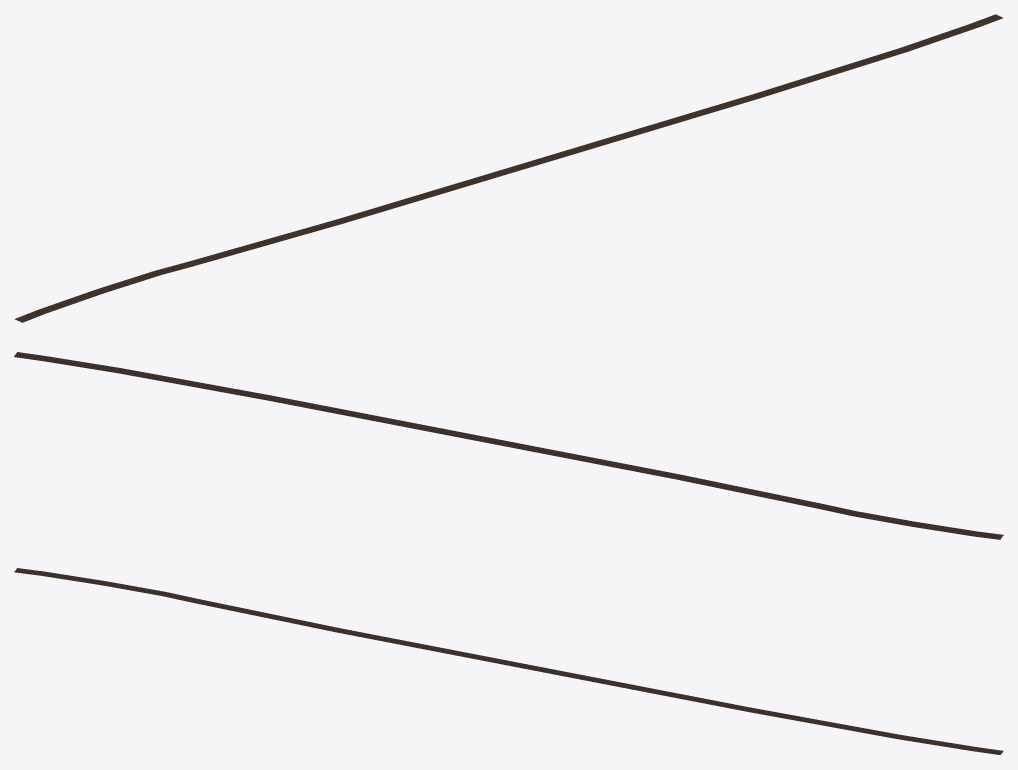
Rendered from kobe_0031.glb.
The picture shows the model from 3 angles, top to bottom: view 1: azimuth 30°, elevation 25°; view 2: azimuth 150°, elevation 25°; view 3: azimuth 330°, elevation 25°; orthographic projection. The views are drawn at different scales.
Parts seen in each view (by area): view 1: ballast_top, oxidised_rail_profiles; view 2: ballast_top, oxidised_rail_profiles, ballast_left; view 3: ballast_top, oxidised_rail_profiles.
Part boxes in pixels (x1=…): ballast_top: x1=14, y1=14, x2=1002, y2=322; oxidised_rail_profiles: x1=15, y1=14, x2=1002, y2=321; ballast_top: x1=14, y1=352, x2=1003, y2=538; oxidised_rail_profiles: x1=15, y1=352, x2=1002, y2=538; ballast_left: x1=14, y1=356, x2=1000, y2=539; ballast_top: x1=14, y1=568, x2=1003, y2=754; oxidised_rail_profiles: x1=15, y1=568, x2=1002, y2=754.
Bounding box in the file's own units: 752 × 0.819 × 90.91.
Materials: 4 (3 with a texture image).
